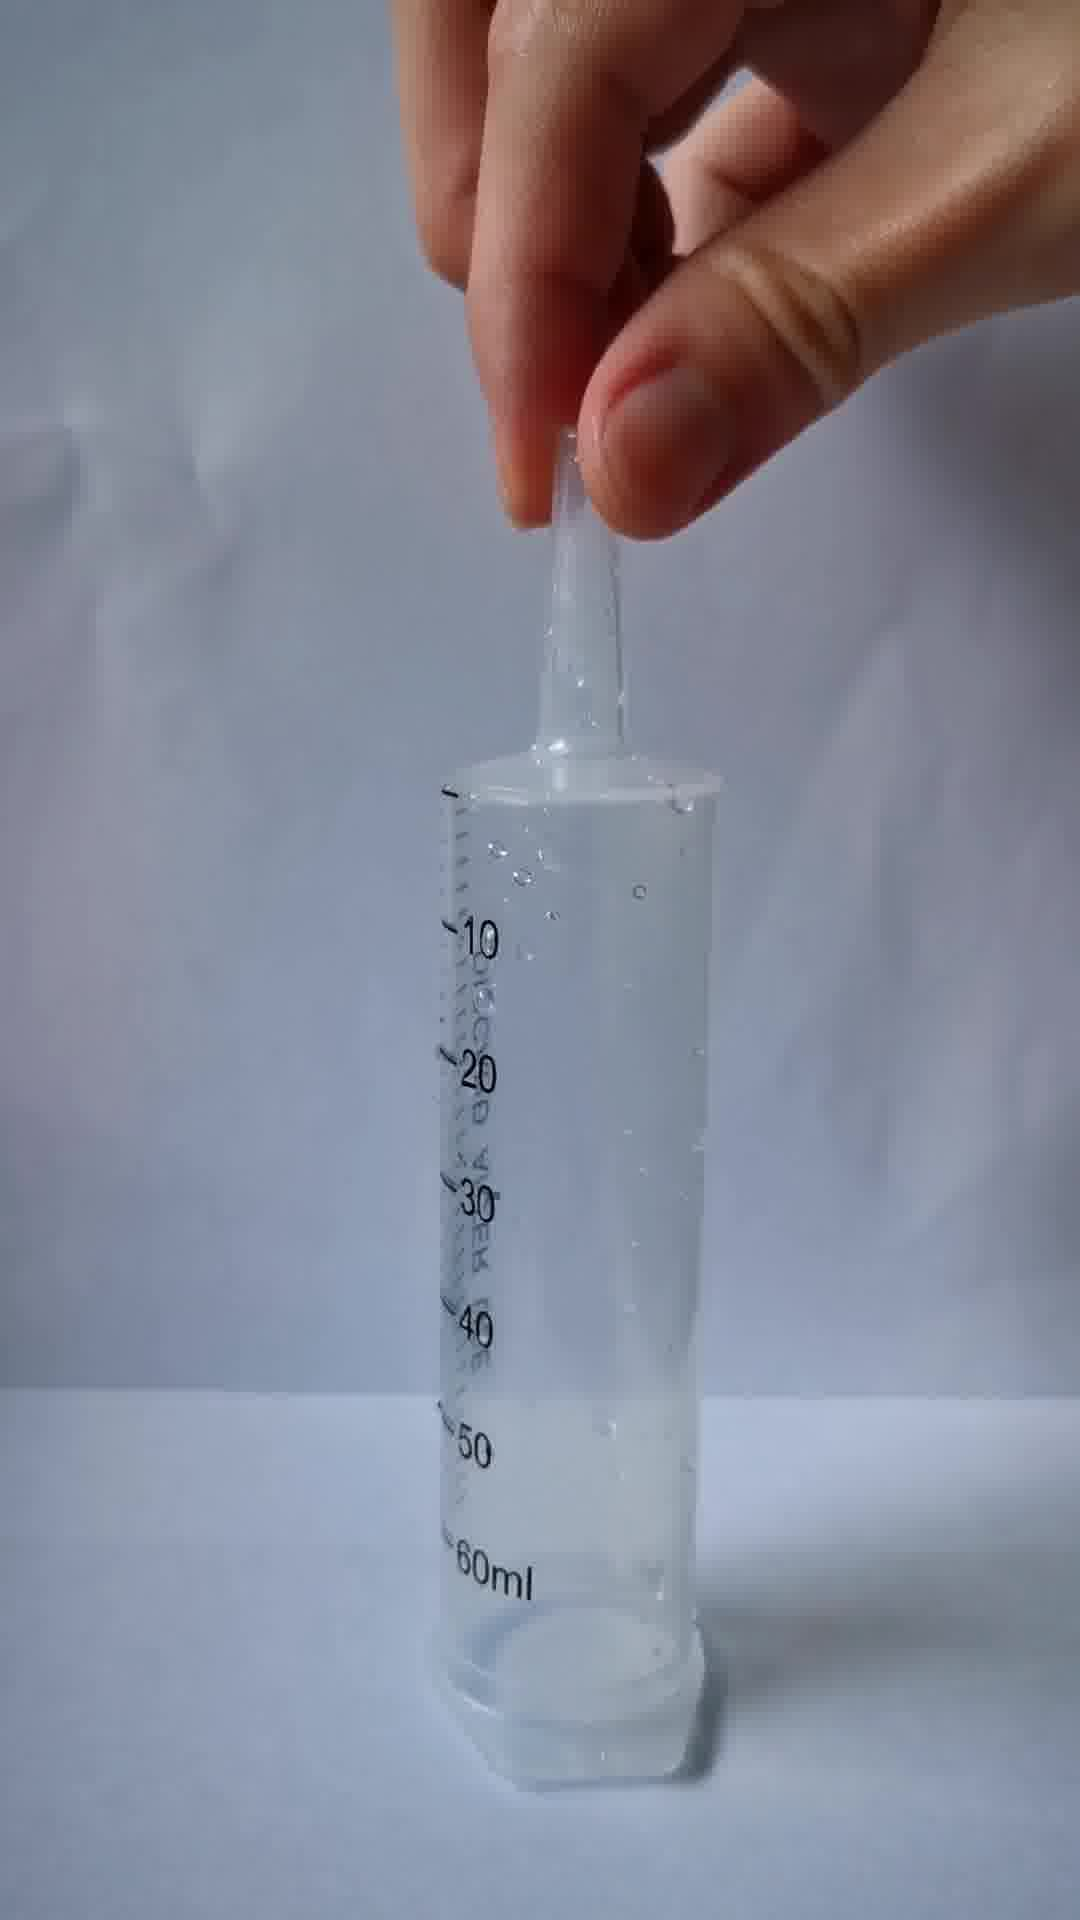syringe: (427, 431, 729, 1797)
